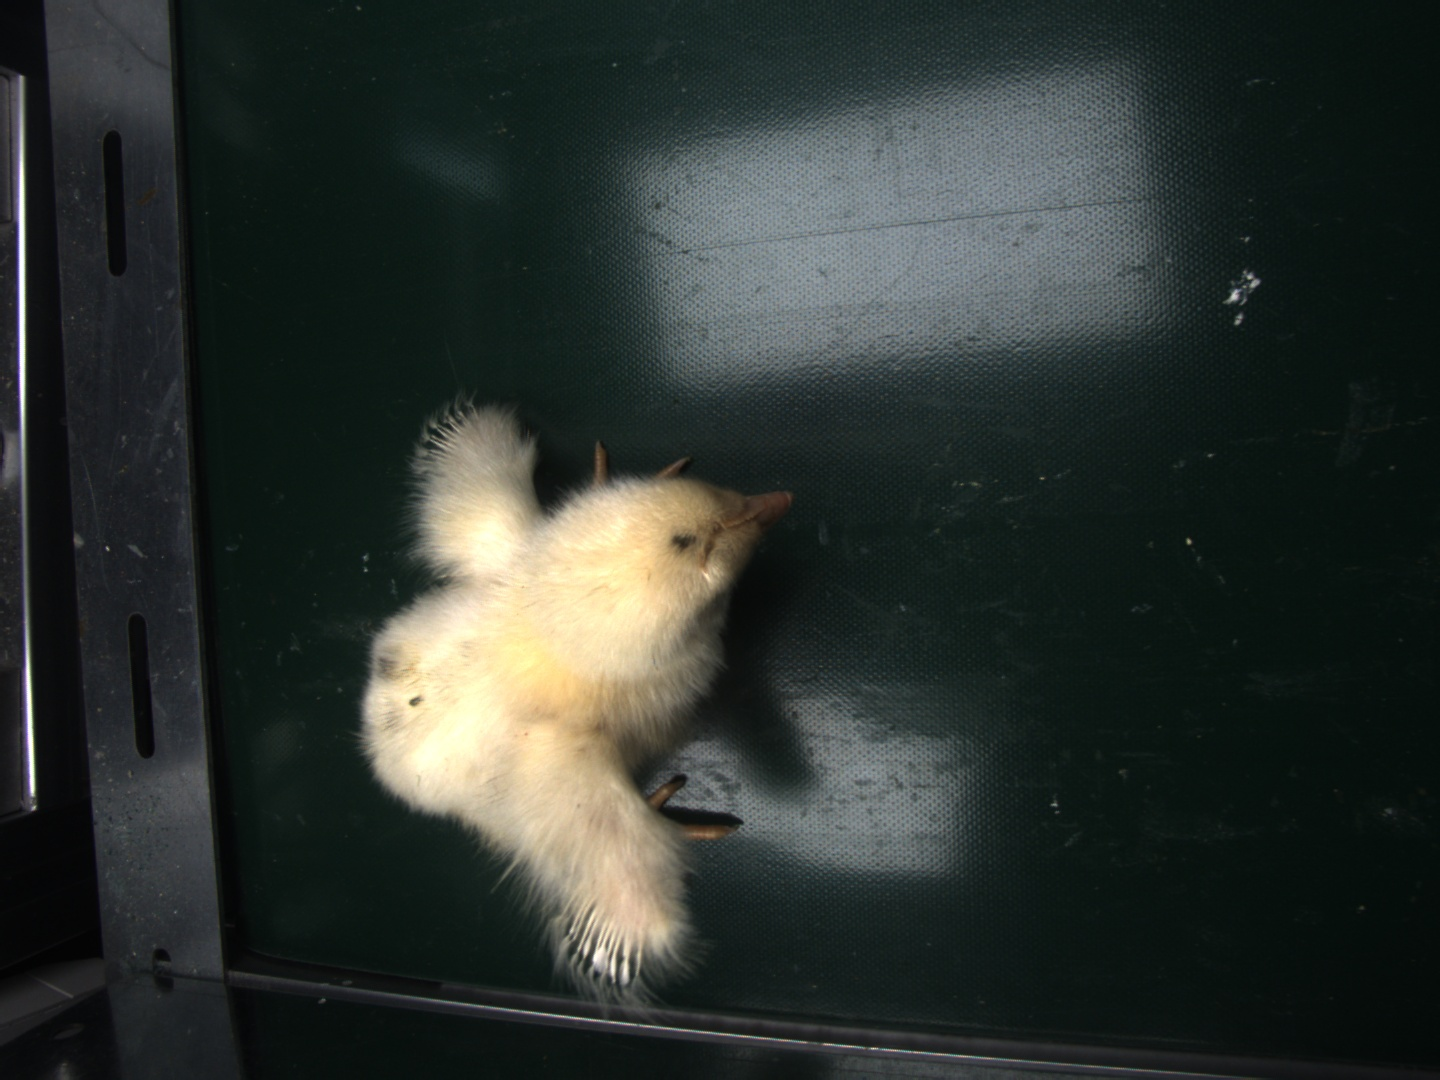male: (562, 897, 643, 979), (420, 404, 483, 469)
